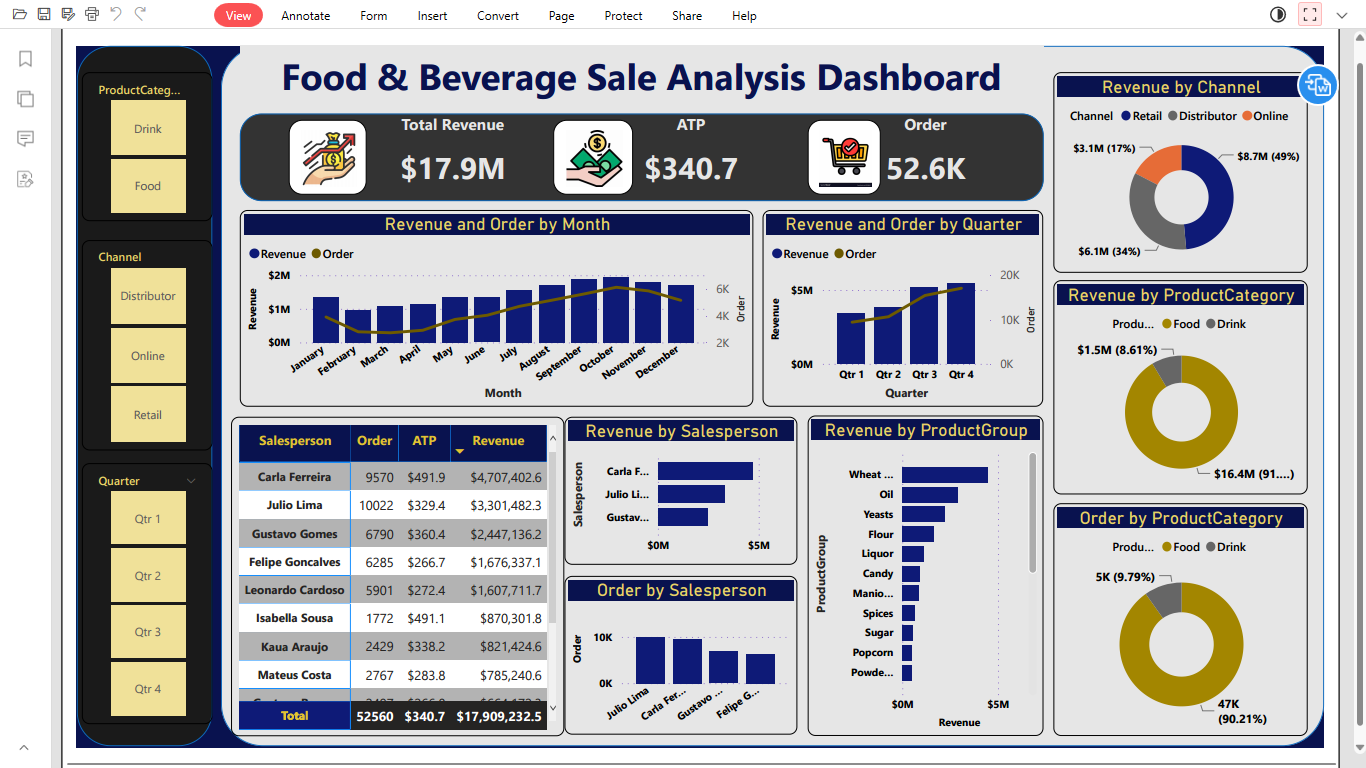

What the dashboard file says about the page in this screenshot:
{"tool":"powerbi","page":{"name":"Page 1","canvas":[1280,720],"ordinal":0},"visuals":[{"type":"shape","box":[147.9,0,1132.1,719.1],"z":0},{"type":"shape","box":[167.2,69.5,824.6,90.1],"z":1000},{"type":"card","title":"Total Revenue","fields":{"Values":["Product.Revenue"]},"box":[312.6,69.5,146.7,90.1],"z":2000},{"type":"card","title":"ATP","fields":{"Values":["Product.ATP"]},"box":[557,69.5,146.7,90.1],"z":3000},{"type":"card","title":"Order","fields":{"Values":["Product.Order"]},"box":[797.6,69.5,146.7,90.1],"z":4000},{"type":"donutChart","fields":{"Y":["Product.Revenue"],"Category":["Sheet1.Channel"]},"box":[1002.1,27,261.1,205.8],"z":5000},{"type":"donutChart","fields":{"Series":["Product.ProductCategory"],"Y":["Product.Revenue"]},"box":[1002.1,240.6,261.1,220],"z":6000},{"type":"donutChart","fields":{"Y":["Product.Order"],"Category":["Product.ProductCategory"]},"box":[1002.1,469.5,261.1,239.3],"z":7000},{"type":"lineClusteredColumnComboChart","fields":{"Category":["Sheet1.OrderDate.Variation.Date Hierarchy.Quarter"],"Y":["Product.Revenue"],"Y2":["Product.Order"]},"box":[703.7,168.5,288.2,202],"z":8000},{"type":"barChart","fields":{"Category":["Product.ProductGroup"],"Y":["Product.Revenue"]},"box":[750,379.5,241.8,329.3],"z":9000},{"type":"lineClusteredColumnComboChart","fields":{"Y":["Product.Revenue"],"Y2":["Product.Order"],"Category":["Sheet1.OrderDate.Variation.Date Hierarchy.Month"]},"box":[167.2,168.5,527.4,202],"z":10000},{"type":"barChart","fields":{"Y":["Product.Revenue"],"Category":["Sheet1.Salesperson"]},"box":[500.4,380.8,239.3,151.8],"z":11000},{"type":"columnChart","fields":{"Y":["Product.Order"],"Category":["Sheet1.Salesperson"]},"box":[500.4,544.2,239.3,163.4],"z":12000},{"type":"pivotTable","fields":{"Rows":["Sheet1.Salesperson"],"Values":["Product.Order","Product.ATP","Product.Revenue"]},"box":[158.2,380.8,342.2,328],"z":13000},{"type":"shape","box":[0,0,138.9,719.1],"z":14000},{"type":"slicer","fields":{"Values":["Product.ProductCategory"]},"box":[5.1,27,133.8,153.1],"z":15000},{"type":"slicer","fields":{"Values":["Sheet1.Channel"]},"box":[5.1,199.4,133.8,216.1],"z":16000},{"type":"slicer","fields":{"Values":["Sheet1.OrderDate.Variation.Date Hierarchy.Quarter"]},"box":[5.1,428.4,133.8,267.6],"z":17000},{"type":"textbox","box":[167.2,0,824.6,69.5],"z":17001},{"type":"image","box":[217.4,75.9,79.8,77.2],"z":17002},{"type":"image","box":[488.8,75.9,82.3,77.2],"z":17003},{"type":"image","box":[750,75.9,74.6,77.2],"z":17004}]}

Visuals, with their boxes on the page's 1280x720 design canvas (x1, y1, x2, y2). These are canvas units, not pixel positions in the 1366x768 screenshot, which may show the page scaled, cropped or inside an application window:
shape: BBox(148, 0, 1280, 719)
shape: BBox(167, 70, 992, 160)
"Total Revenue" card: BBox(313, 70, 459, 160)
"ATP" card: BBox(557, 70, 704, 160)
"Order" card: BBox(798, 70, 944, 160)
donutChart - Product.Revenue x Sheet1.Channel: BBox(1002, 27, 1263, 233)
donutChart - Product.ProductCategory x Product.Revenue: BBox(1002, 241, 1263, 461)
donutChart - Product.Order x Product.ProductCategory: BBox(1002, 470, 1263, 709)
lineClusteredColumnComboChart - Sheet1.OrderDate.Variation.Date Hierarchy.Quarter x Product.Revenue: BBox(704, 168, 992, 370)
barChart - Product.ProductGroup x Product.Revenue: BBox(750, 380, 992, 709)
lineClusteredColumnComboChart - Product.Revenue x Product.Order: BBox(167, 168, 695, 370)
barChart - Product.Revenue x Sheet1.Salesperson: BBox(500, 381, 740, 533)
columnChart - Product.Order x Sheet1.Salesperson: BBox(500, 544, 740, 708)
pivotTable - Sheet1.Salesperson x Product.Order: BBox(158, 381, 500, 709)
shape: BBox(0, 0, 139, 719)
slicer - Product.ProductCategory: BBox(5, 27, 139, 180)
slicer - Sheet1.Channel: BBox(5, 199, 139, 416)
slicer - Sheet1.OrderDate.Variation.Date Hierarchy.Quarter: BBox(5, 428, 139, 696)
textbox: BBox(167, 0, 992, 70)
image: BBox(217, 76, 297, 153)
image: BBox(489, 76, 571, 153)
image: BBox(750, 76, 825, 153)
